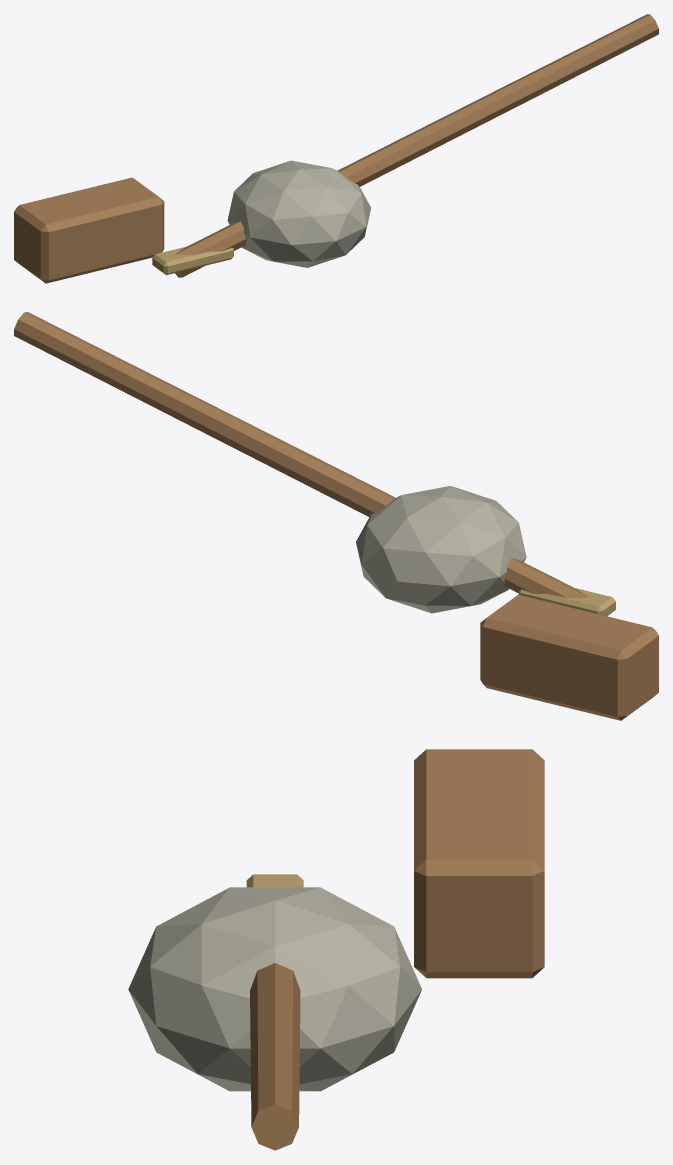
The picture shows the model from 3 angles, top to bottom: view 1: azimuth 30°, elevation 25°; view 2: azimuth 150°, elevation 25°; view 3: azimuth 270°, elevation 25°; orthographic projection. The views are drawn at different scales.
Parts seen in each view (by area): view 1: CE-038 Stevedore lever and stone fulcrum batched; view 2: CE-038 Stevedore lever and stone fulcrum batched; view 3: CE-038 Stevedore lever and stone fulcrum batched.
Part boxes in pixels (x1,y1,x2,y2): CE-038 Stevedore lever and stone fulcrum batched: (14, 14, 658, 283); CE-038 Stevedore lever and stone fulcrum batched: (14, 312, 658, 720); CE-038 Stevedore lever and stone fulcrum batched: (128, 749, 544, 1150).
Size of the model in its own units: 1.63 by 0.4282 by 0.51.
